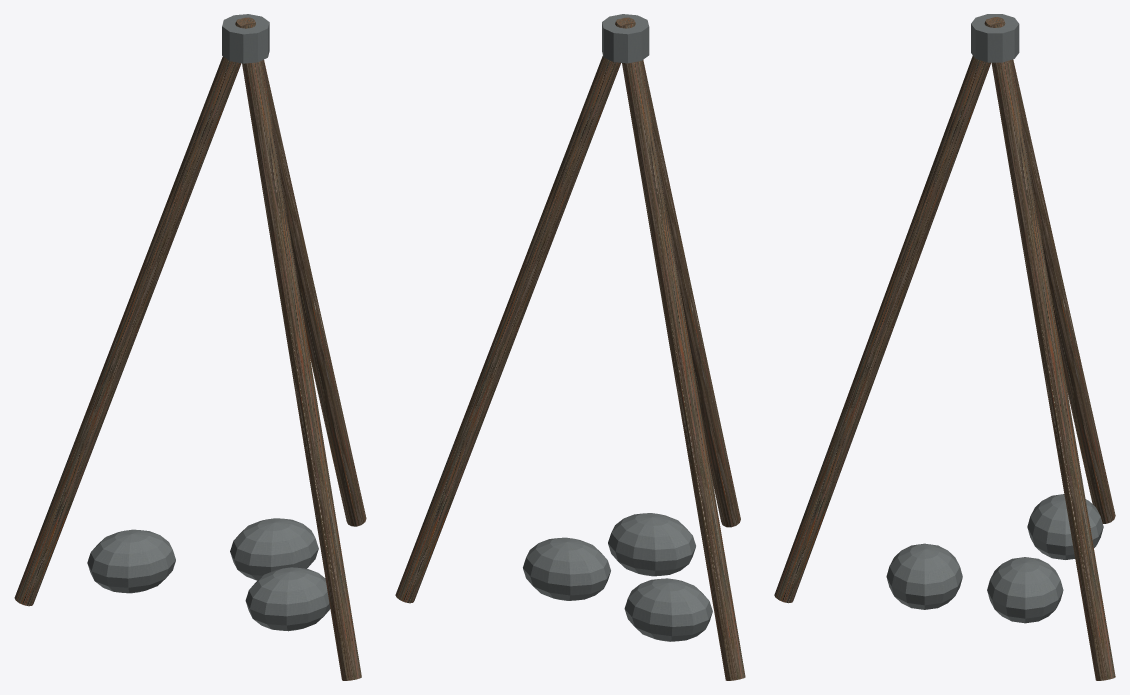
Rendered from tripod_realistic.glb.
3 renders of one model, left to right at view 1: azimuth 30°, elevation 25°; view 2: azimuth 150°, elevation 25°; view 3: azimuth 270°, elevation 25°, orthographic.
Visible parts, largest first — view 1: Cylinder.002, Cylinder, Cylinder.001, Sphere, Sphere.002, Sphere.001, Cylinder.003; view 2: Cylinder, Cylinder.001, Cylinder.002, Sphere, Sphere.002, Sphere.001, Cylinder.003; view 3: Cylinder.001, Cylinder.002, Cylinder, Sphere.002, Sphere.001, Sphere, Cylinder.003.
Boxes of the visible parts, x1,y1,x2,y2 form: Cylinder.002: (240,22,361,680); Cylinder: (14,19,245,606); Cylinder.001: (241,17,366,526); Sphere: (87,529,175,593); Sphere.002: (245,567,330,631); Sphere.001: (230,518,318,580); Cylinder.003: (222,14,269,63); Cylinder: (620,22,745,680); Cylinder.001: (395,19,625,603); Cylinder.002: (621,17,740,527); Sphere: (624,578,712,641); Sphere.002: (608,513,695,576); Sphere.001: (523,537,610,600); Cylinder.003: (602,14,649,63); Cylinder.001: (989,22,1115,680); Cylinder.002: (774,18,994,603); Cylinder: (990,17,1115,523); Sphere.002: (886,543,962,609); Sphere.001: (987,557,1063,623); Sphere: (1027,494,1103,559); Cylinder.003: (971,14,1019,62).
Size of the model in its own units: 2 by 3.18 by 1.7.
Materials: 2 (2 with a texture image).
